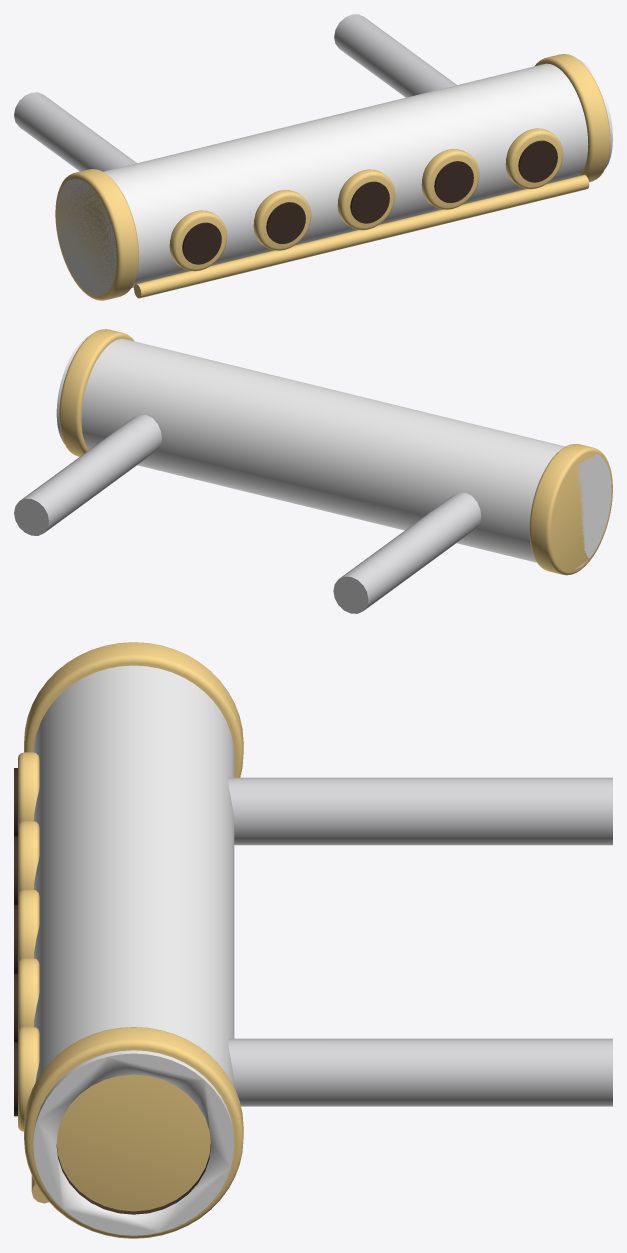
3 views of the same model, one above another, from view 1: azimuth 30°, elevation 25°; view 2: azimuth 150°, elevation 25°; view 3: azimuth 270°, elevation 25° (orthographic). The views are drawn at different scales.
Visible parts, largest first — view 1: flute_v4_default; view 2: flute_v4_default; view 3: flute_v4_default.
Part boxes in pixels (left/top/right/bottom): flute_v4_default: left=14, top=14, right=612, bottom=300; flute_v4_default: left=14, top=329, right=612, bottom=613; flute_v4_default: left=14, top=642, right=612, bottom=1238.
Size of the model in its own units: 0.62 by 0.142 by 0.3875.
